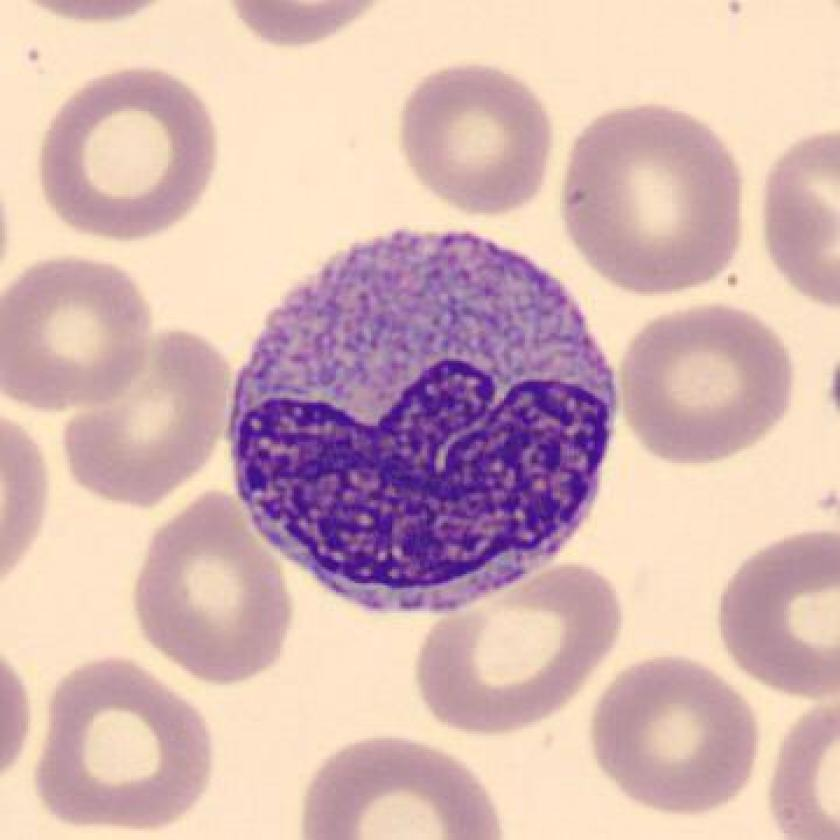monocyte: (216, 212, 636, 631)
